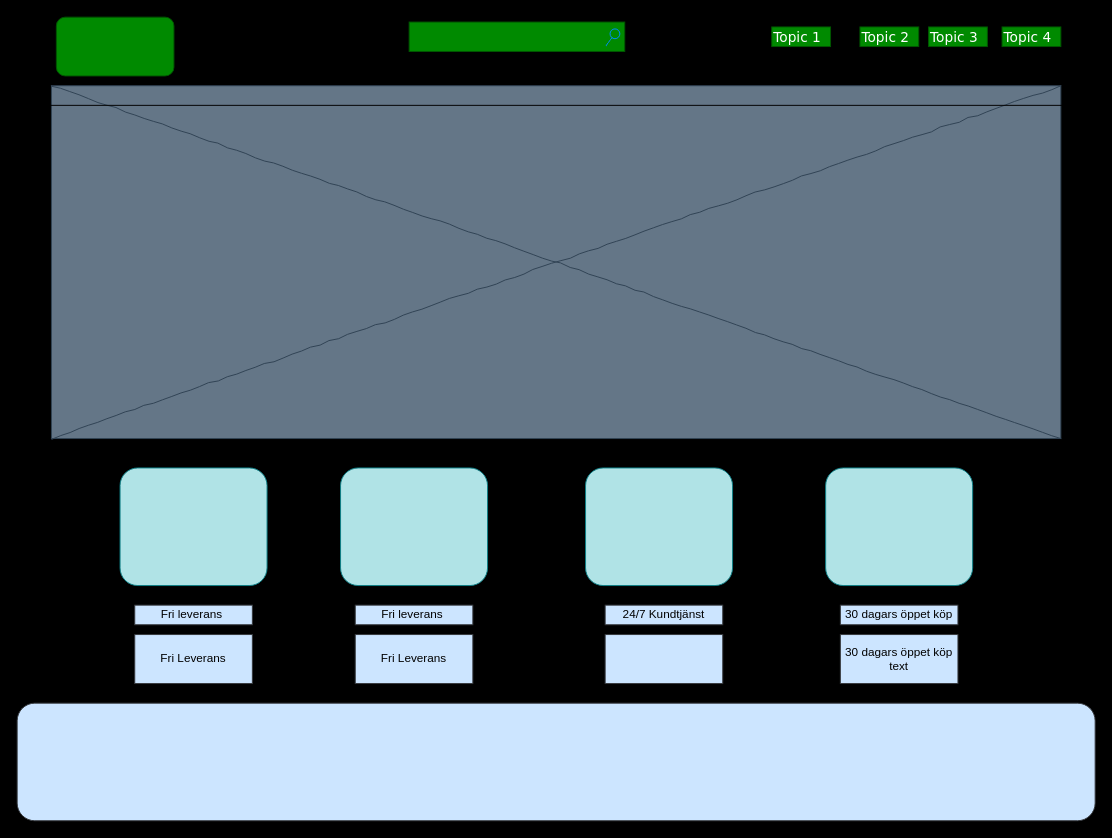
Image size: 1112x838. Some labels were removed from this diagram. Each missing label, with the box of its shape:
24/7 kundtjänst text: (604, 634, 723, 684)
Footer: (16, 702, 1095, 821)
LOGO: (55, 16, 174, 76)
Search: (408, 21, 625, 51)
